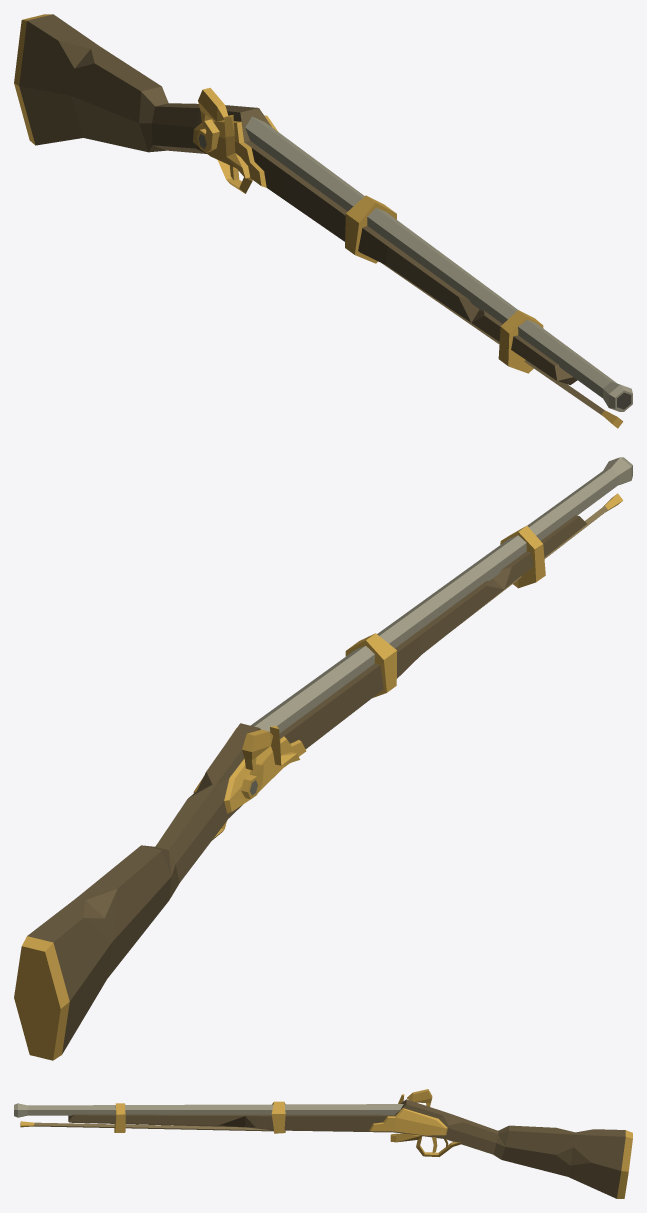
File: Rifle_2.fbx
3 views of the same model, one above another, from view 1: azimuth 30°, elevation 25°; view 2: azimuth 150°, elevation 25°; view 3: azimuth 270°, elevation 25° (orthographic). The views are drawn at different scales.
Parts seen in each view (by area): view 1: Rifle_2; view 2: Rifle_2; view 3: Rifle_2.
Part boxes in pixels (<box>): Rifle_2: <box>14,14,632,428</box>; Rifle_2: <box>14,457,632,1060</box>; Rifle_2: <box>14,1089,632,1198</box>.
Size of the model in its own units: 7.01 by 24.36 by 136.
